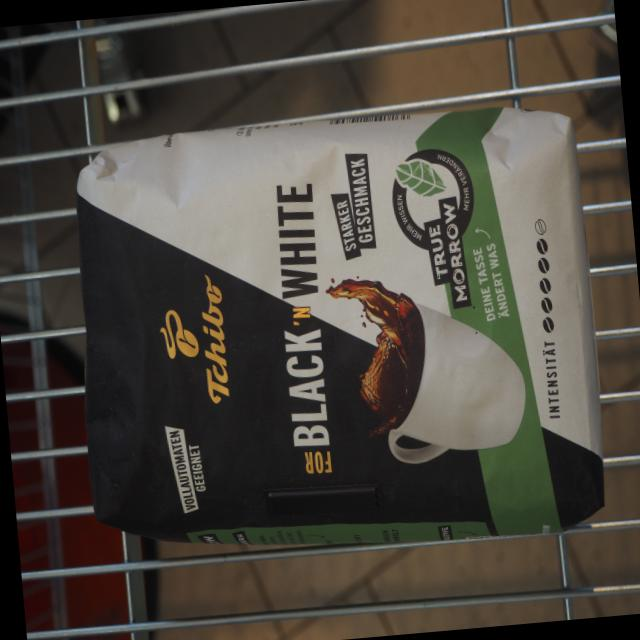BW Bohne: (56, 94, 614, 579)
